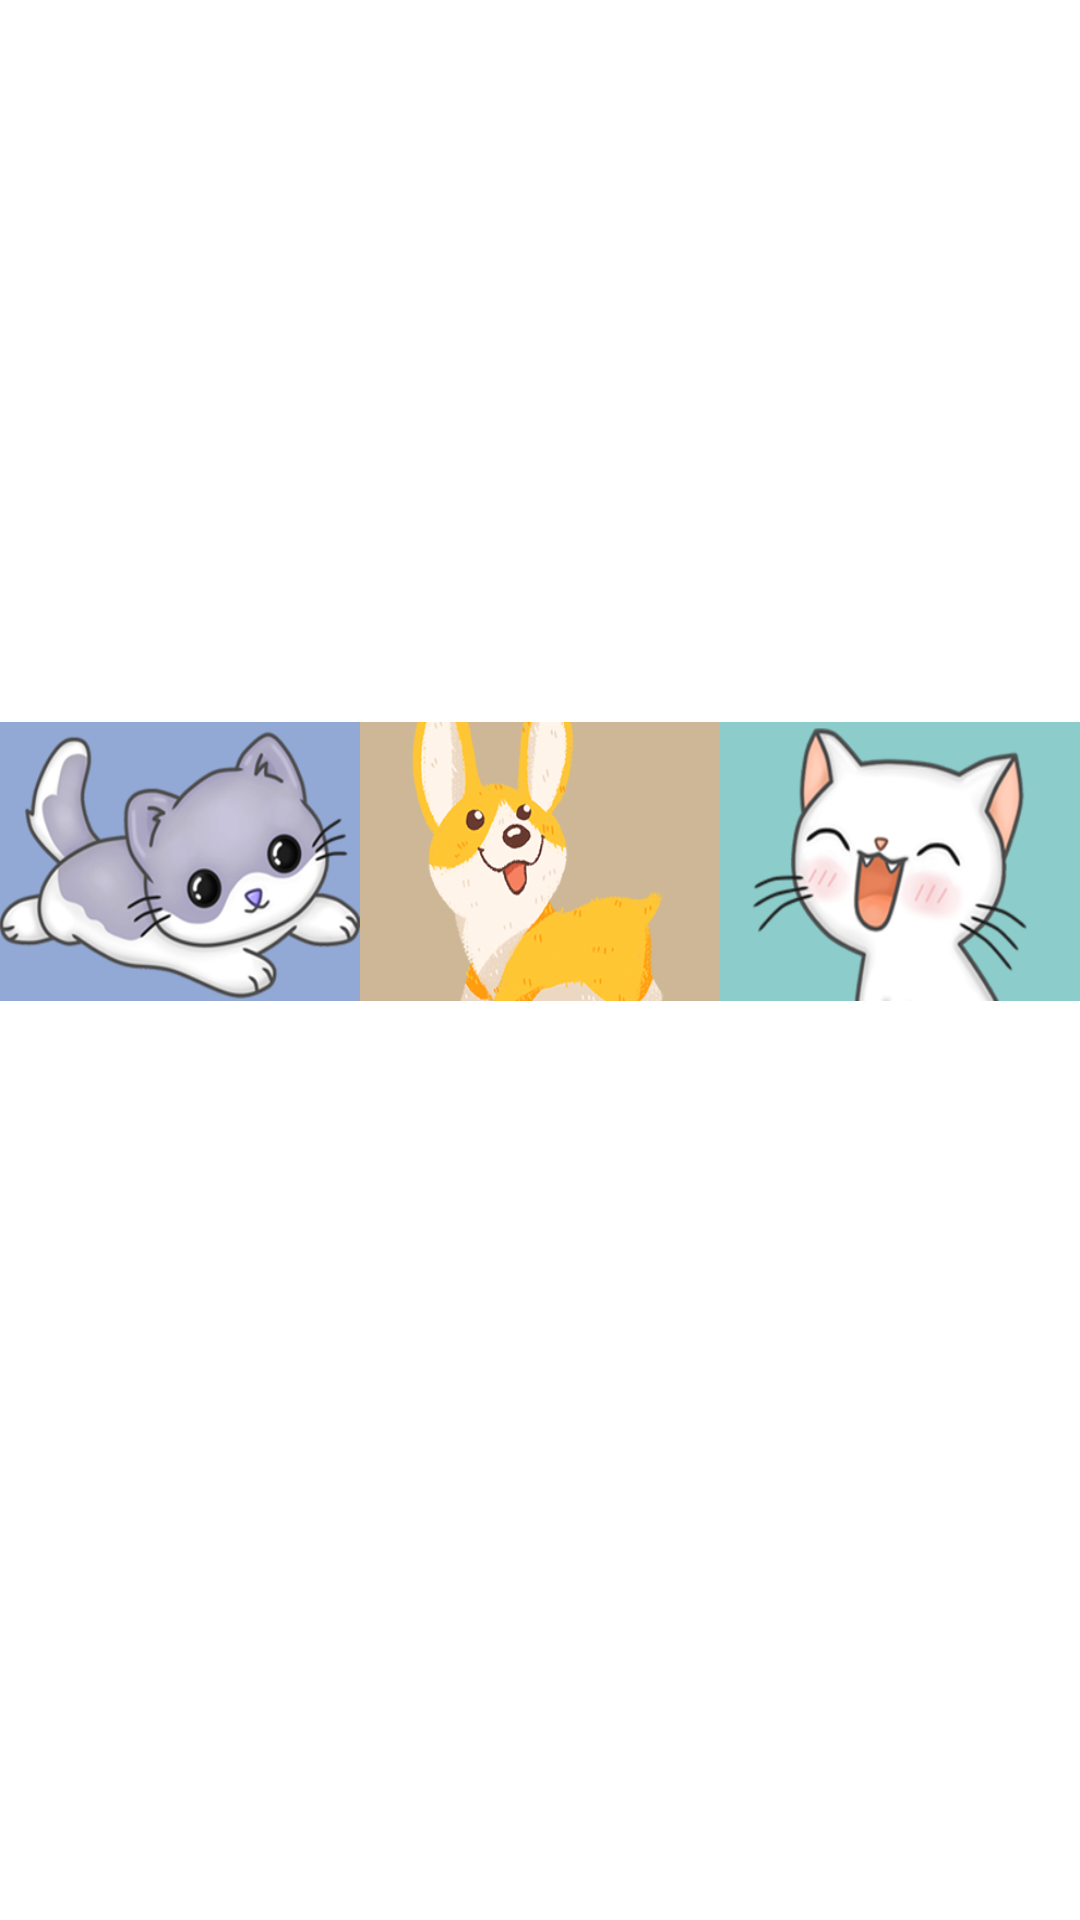

Icons on this 1080px x 1920px Android screen, each with the point to tap as [x,y]:
left cat: [180,861]
right cat: [900,861]
